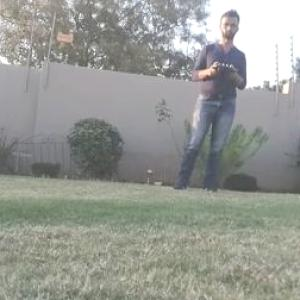follow: (164, 2, 249, 196)
